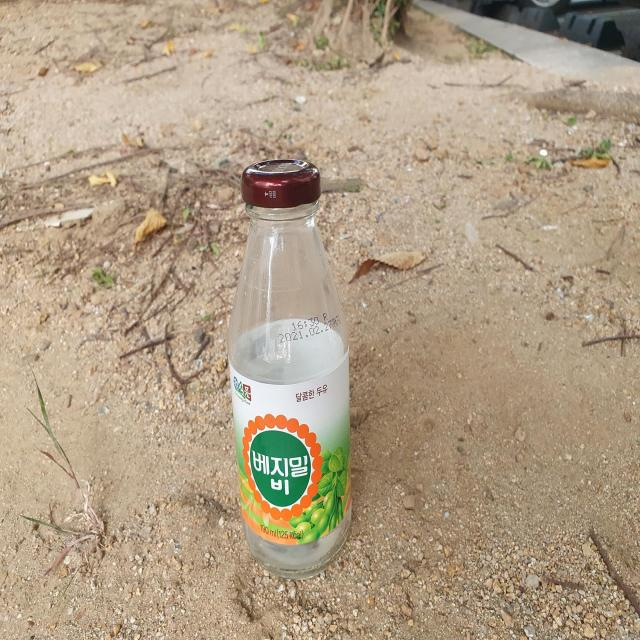glass: (228, 159, 352, 578)
